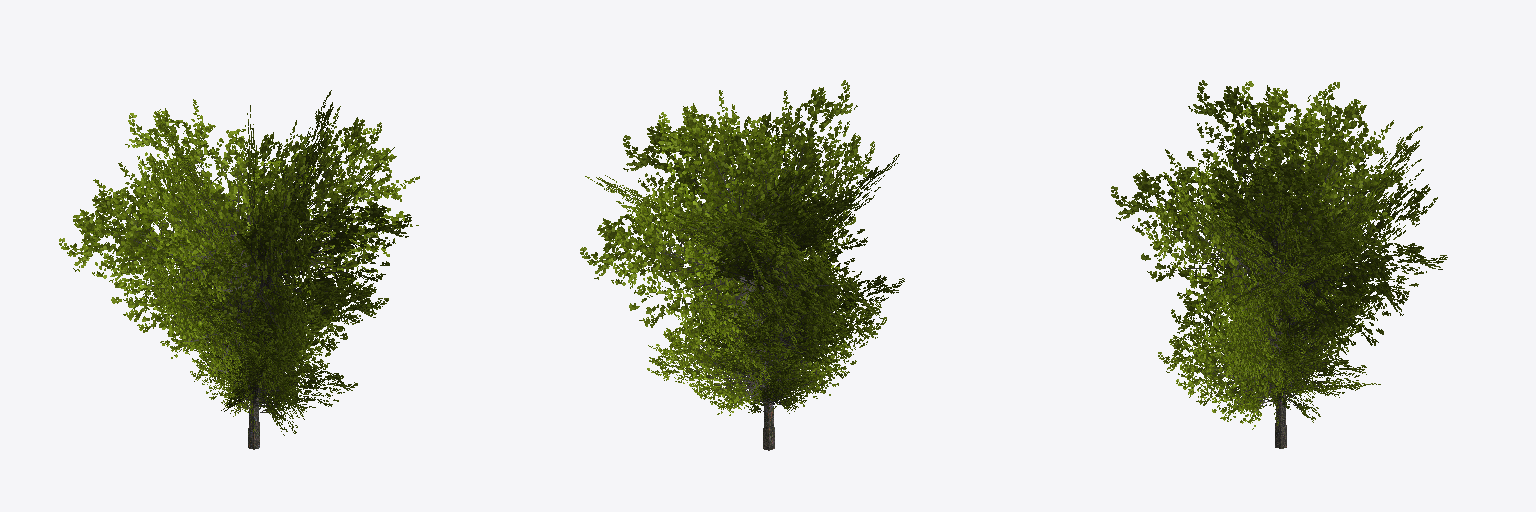
3 renders of one model, left to right at view 1: azimuth 30°, elevation 25°; view 2: azimuth 150°, elevation 25°; view 3: azimuth 270°, elevation 25°, orthographic.
Parts seen in each view (by area): view 1: Default; view 2: Default; view 3: Default.
Part boxes in pixels (left/top/right/bottom): Default: left=59, top=90, right=419, bottom=449; Default: left=580, top=80, right=904, bottom=450; Default: left=1111, top=80, right=1447, bottom=448.
Size of the model in its own units: 7.46 by 7.05 by 7.23.
2 materials, 2 textured.